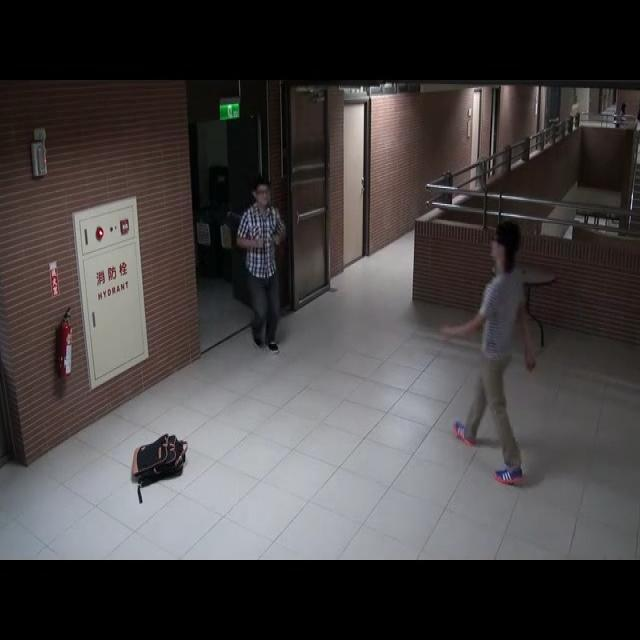abandoned-object: (99, 398, 221, 509)
